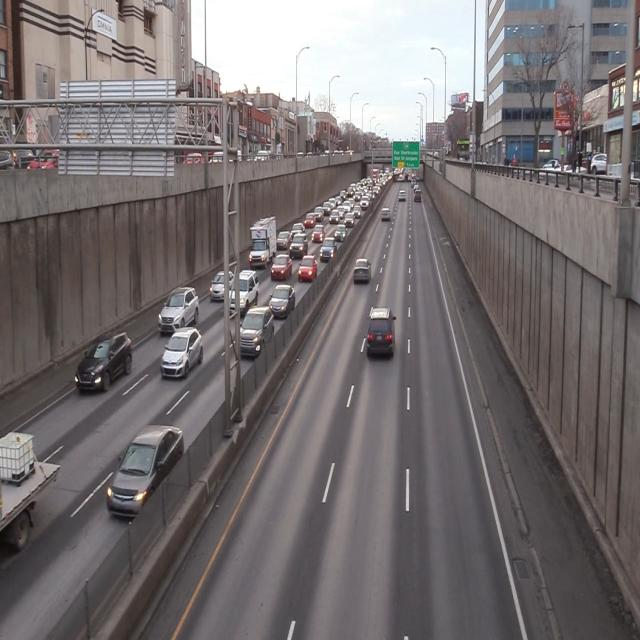Car: (105, 422, 183, 520), (75, 328, 133, 398), (160, 327, 204, 388), (158, 285, 199, 337), (363, 307, 400, 362), (238, 309, 273, 360), (249, 216, 277, 268), (229, 271, 259, 317), (270, 253, 292, 281), (352, 258, 373, 286), (298, 255, 317, 285)
